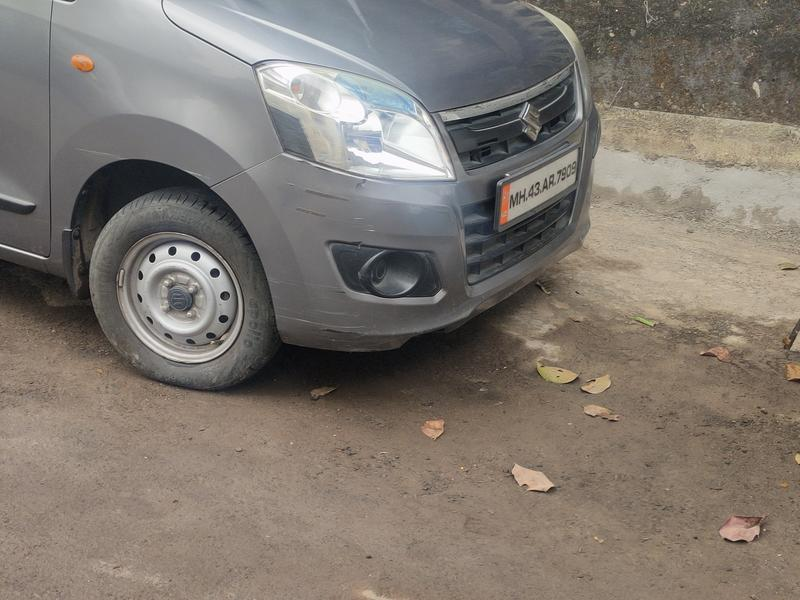license_plate: (470, 142, 585, 229)
